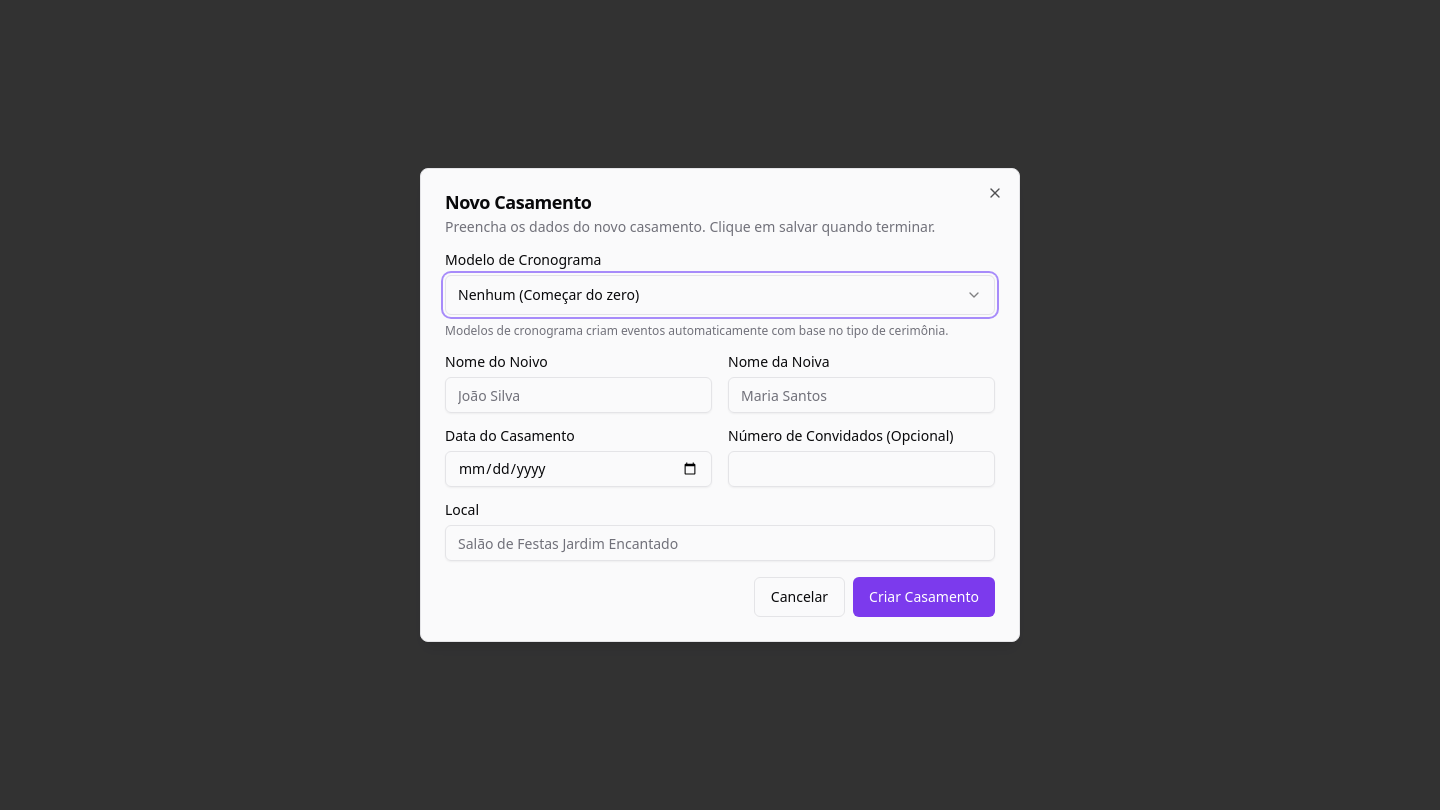
Test: CreateWeddingDialog › shows validation error for empty fields
The width and height of the screenshot is (1440, 810).
Click the button "Criar Casamento".
click(924, 597)  # box [853, 577, 995, 617]
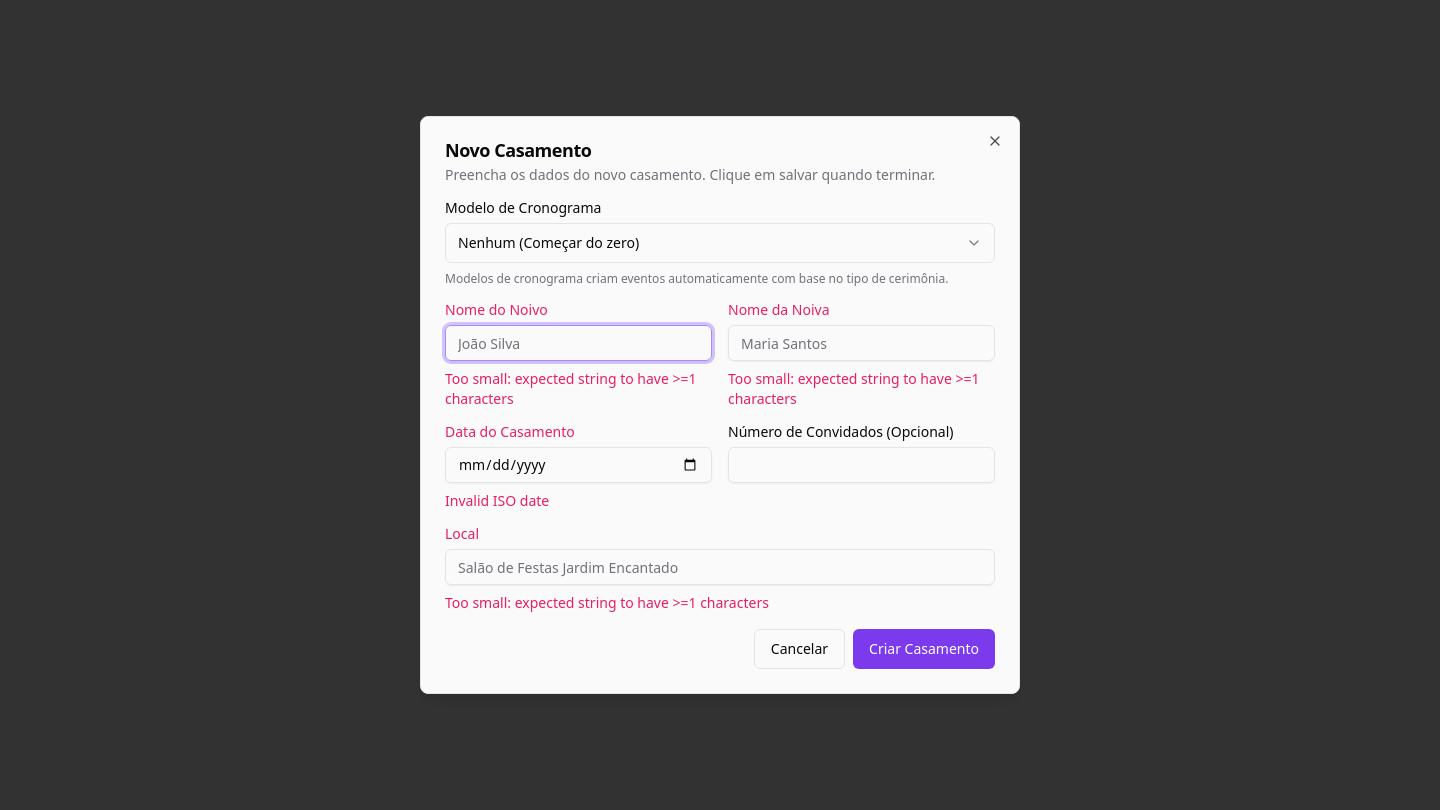
Result: the text "Invalid ISO date" is shown at [445, 491, 549, 510]
